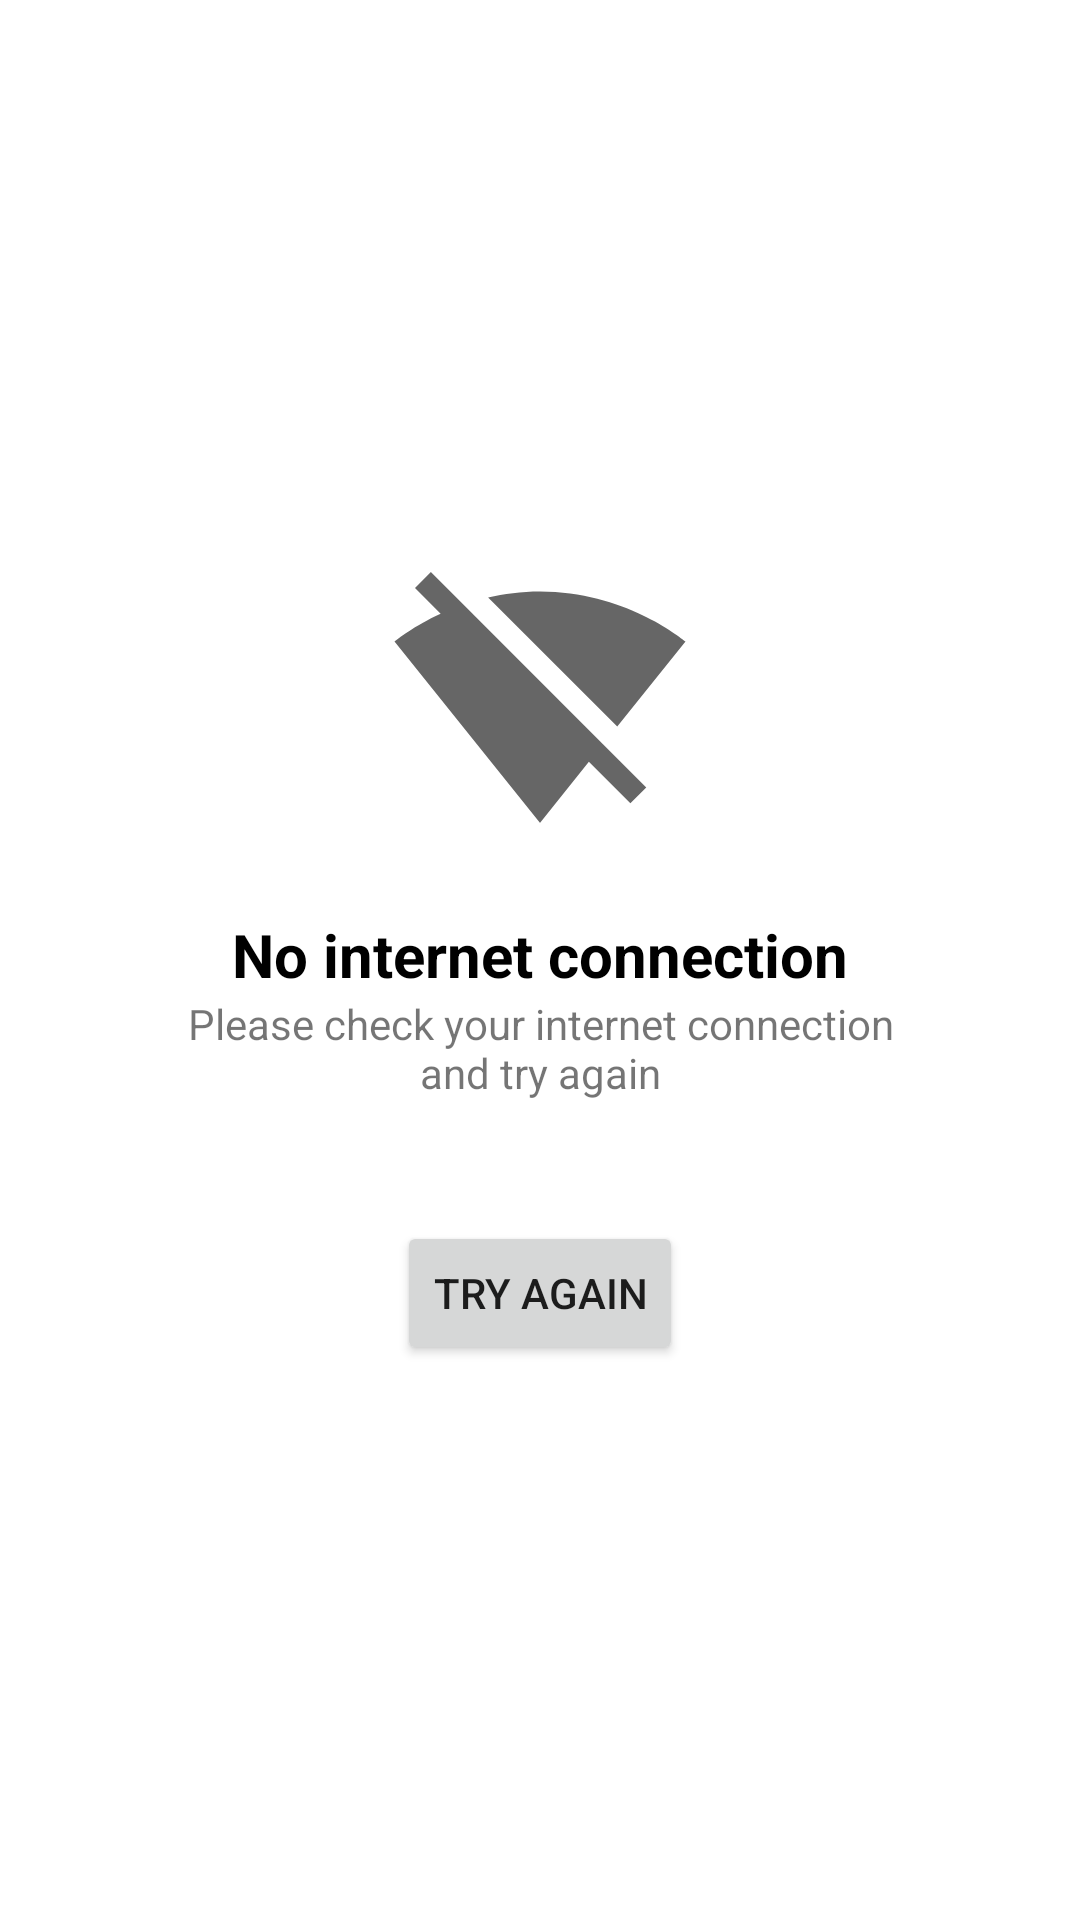

Icon bounding boxes for this 1080 x 1920 phone screenshot, format Rect(x1, y1, x2, y2):
signal wifi off: Rect(394, 572, 686, 823)
